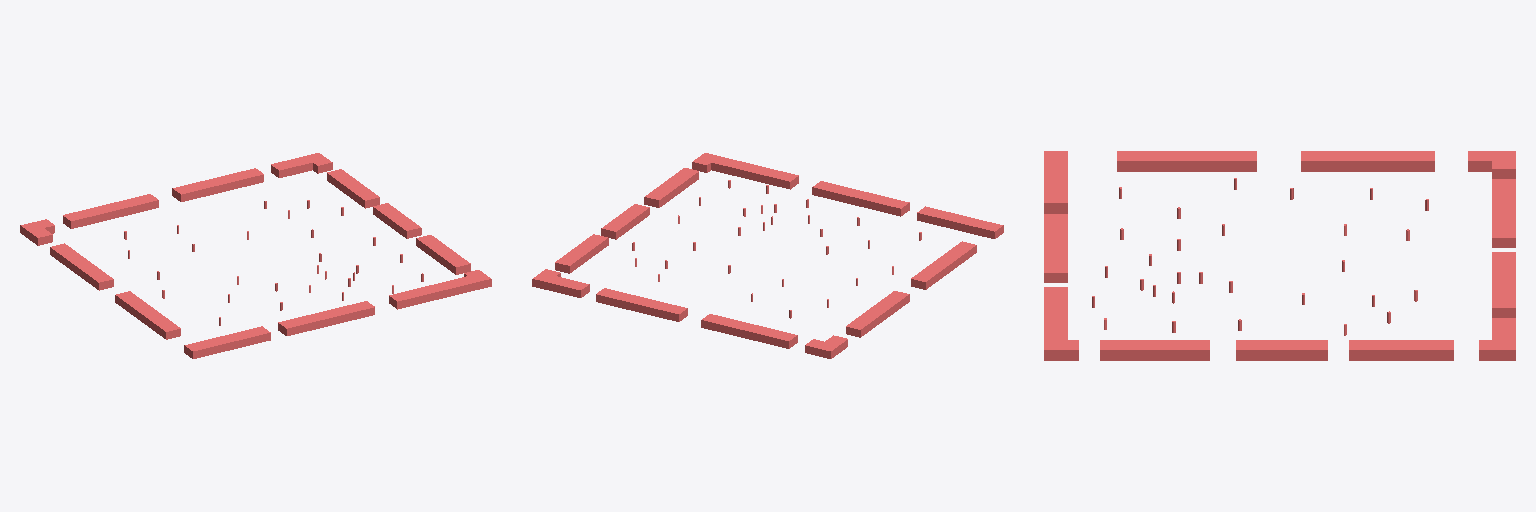
The robot description file, URDF, robot "flat_model":
<?xml version="1.0" encoding="utf-8"?>
<!-- This URDF was automatically created by SolidWorks to URDF Exporter! Originally created by [author] ([email redacted]) 
     Commit Version: 1.5.1-0-g916b5db  Build Version: 1.5.7152.31018
     For more information, please see http://wiki.ros.org/sw_urdf_exporter -->
<robot
  name="flat_model">

  <material name="color">
  <color rgba="1 0.5 0.5 1"/>
  </material>

  <link
    name="2d_model">
    <inertial>
      <origin
        xyz="0 0 0"
        rpy="0 0 0" />
      <mass
        value="0" />
      <inertia
        ixx="0"
        ixy="0"
        ixz="0"
        iyy="0"
        iyz="0"
        izz="0" />
    </inertial>
    <visual>
      <origin
        xyz="0 0 0"
        rpy="0 0 0" />
      <geometry>
        <mesh
          filename="package://sofa_valid/mesh/flat_model_pins.stl" 
          scale="0.001 0.001 0.001"/>
      </geometry>
      <material name="color" />
    </visual>
  </link>

</robot>

--- Render facts (derived) ---
The picture shows the robot from 3 angles, left to right: view 1: azimuth 30°, elevation 25°; view 2: azimuth 150°, elevation 25°; view 3: azimuth 270°, elevation 25°; orthographic projection.
Model flat_model with 1 links and 0 joints (none), rooted at 2d_model, posed all joints at 0.
Visible links, largest first — view 1: 2d_model; view 2: 2d_model; view 3: 2d_model.
Boxes of the visible links, x1,y1,x2,y2 form: 2d_model: (20, 153, 491, 358); 2d_model: (532, 153, 1003, 358); 2d_model: (1044, 151, 1515, 360).
Bounding box of the posed robot: 0.2 × 0.2 × 0.005 m (x, y, z).
Meshes: 1 distinct files referenced, 1 mesh visuals loaded (1 binary STL).